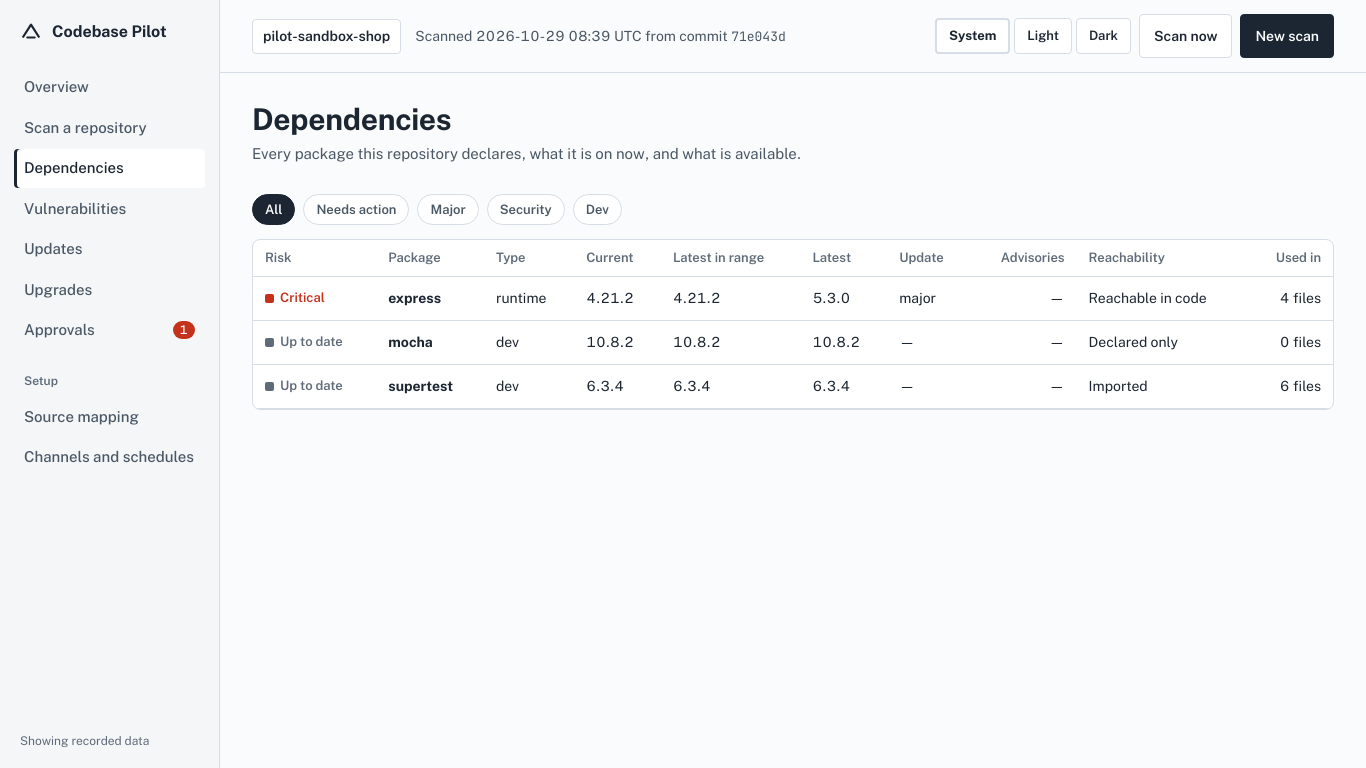
Scenario: Dependencies › filters the table and says when nothing matches
Expected: the cell "express" is shown, [376,276,484,320]
Expected: the text "Reachable in code" is shown, [1077,276,1249,320]
Click the button "Dev". click: click(597, 209)
box: [573,194,622,225]
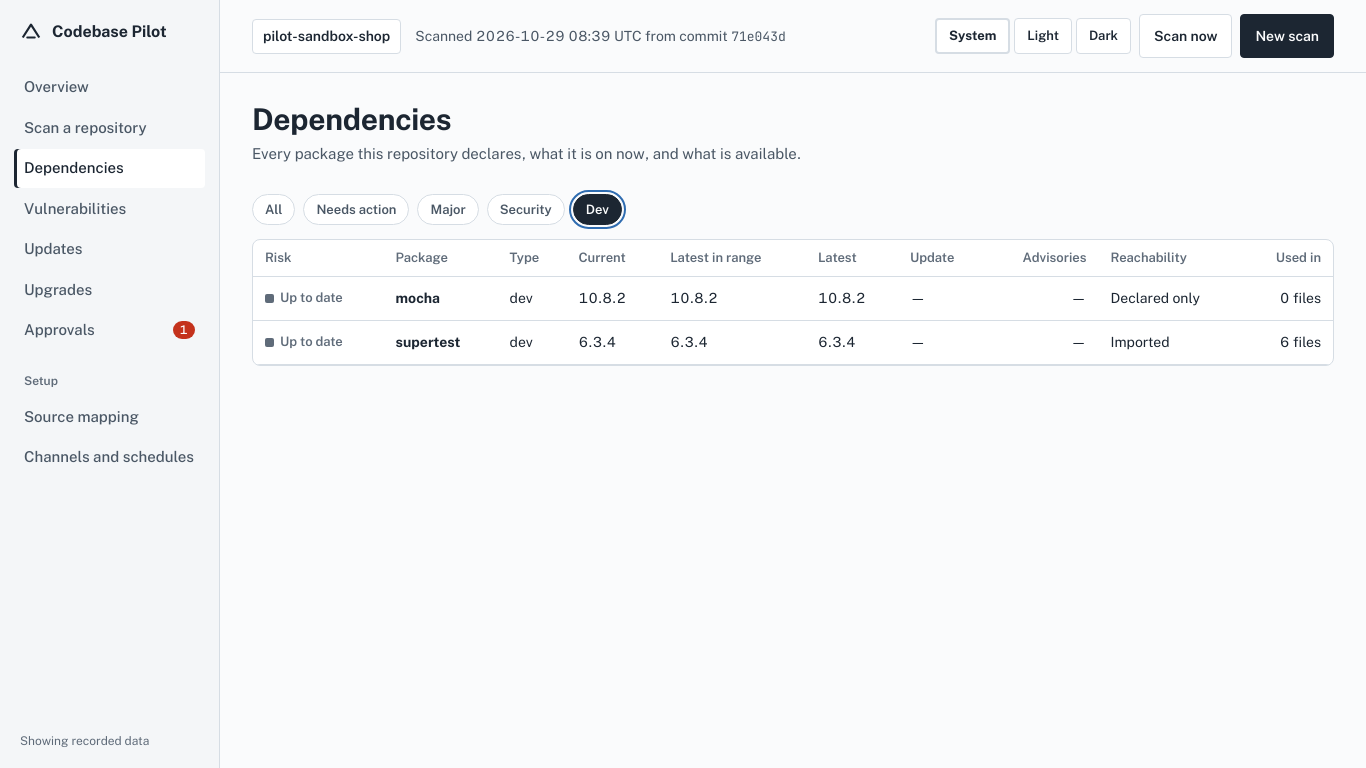
Expected: the cell "mocha" is shown, [384,276,498,320]
Now the text "express" is gone
Click the button "Major". click: click(448, 209)
box: [417,194,479,225]
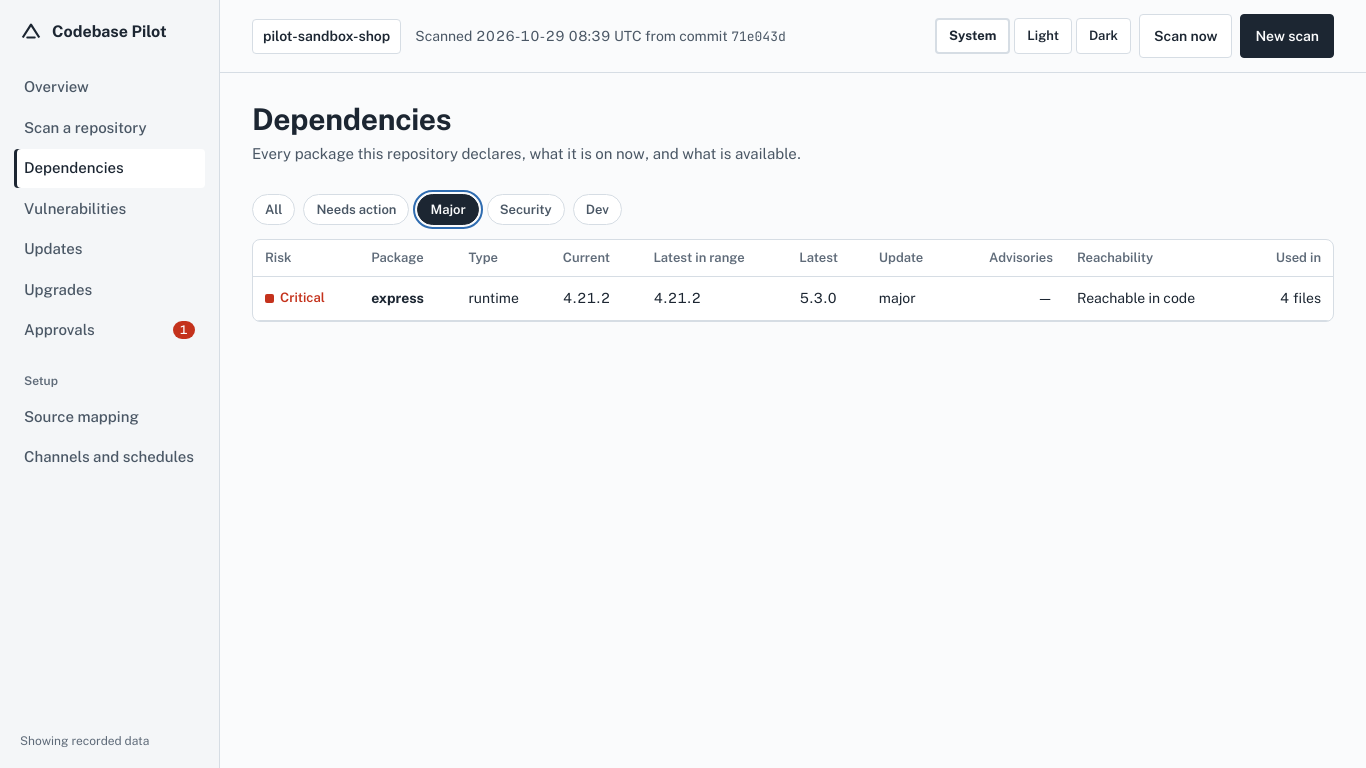
Now the cell "express" is shown, box [359,276,456,320]
Click the button "Security". click: click(526, 209)
box: [487,194,565,225]
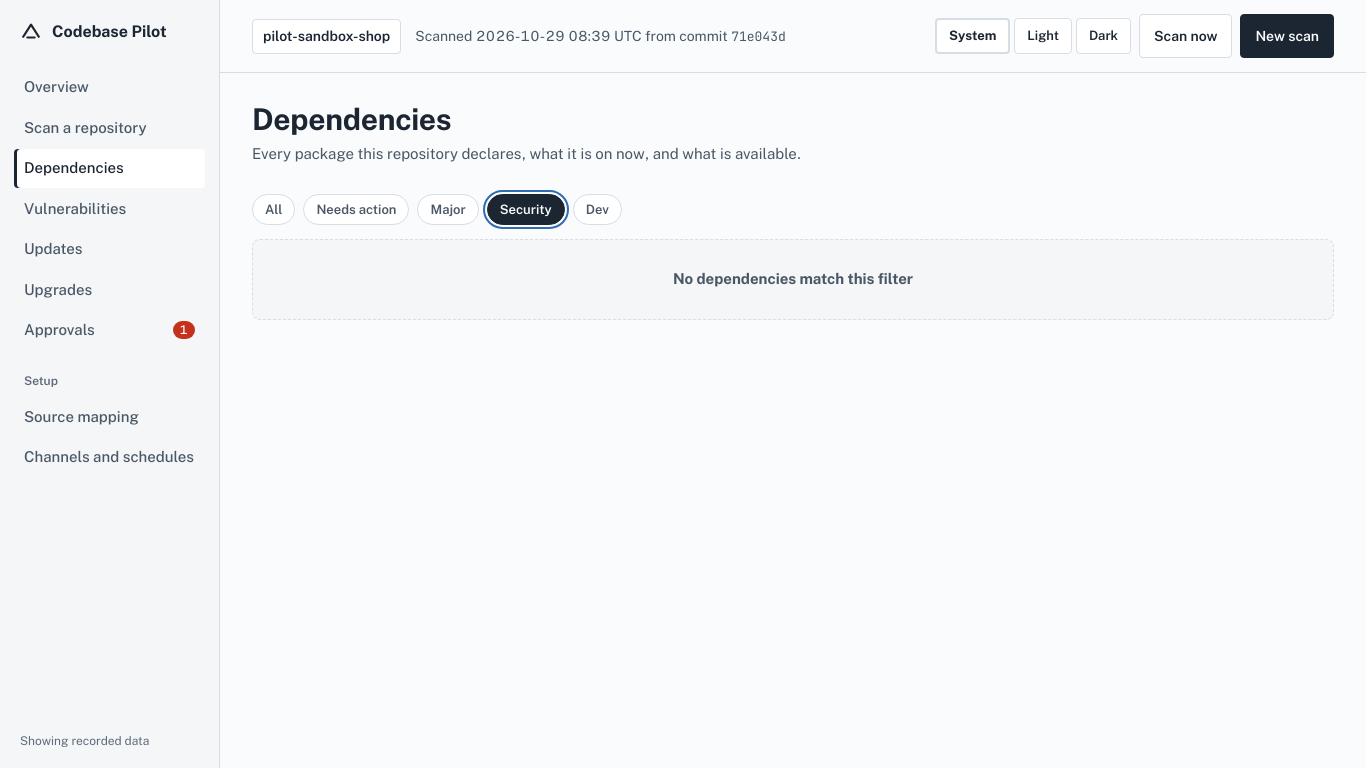
Now the text "No dependencies match this filter" is shown, box [673,270,913,287]
